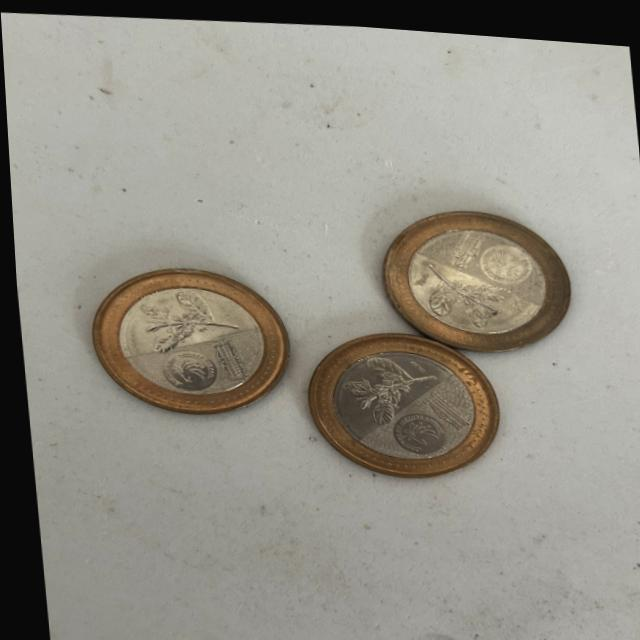20_New_Back: (332, 342, 438, 424), (134, 280, 242, 358), (414, 253, 515, 325)
